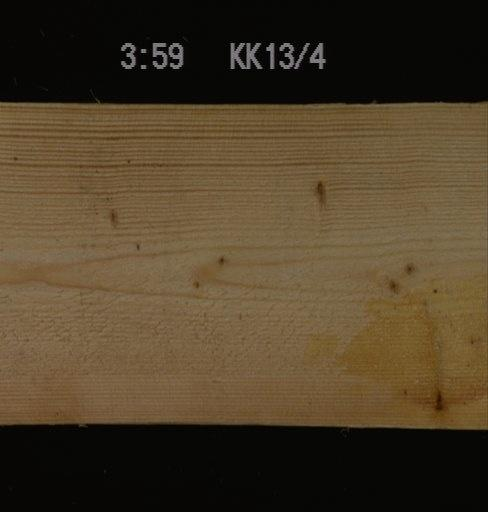small_knot: (311, 177, 329, 215), (105, 205, 118, 228), (214, 253, 226, 267)
